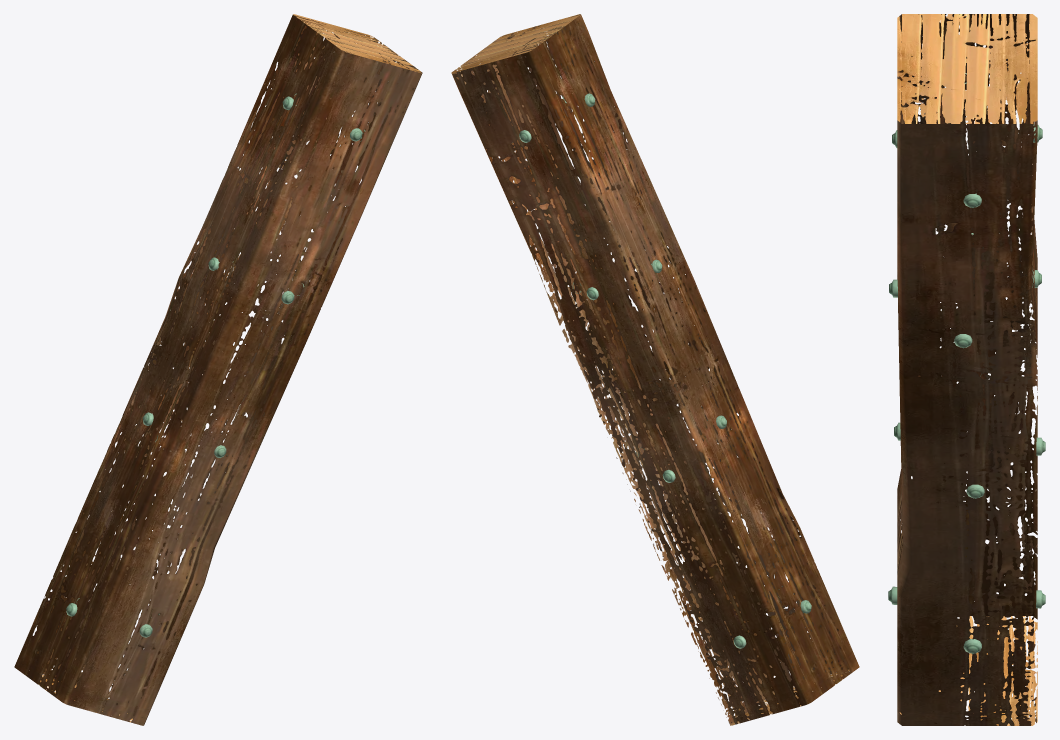
3 views of the same model, side by side, from view 1: azimuth 30°, elevation 25°; view 2: azimuth 150°, elevation 25°; view 3: azimuth 270°, elevation 25° (orthographic). The views are drawn at different scales.
Visible parts, largest first — view 1: SM_BB_T4_Beam_Thick_Large_Steep_LOD0; view 2: SM_BB_T4_Beam_Thick_Large_Steep_LOD0; view 3: SM_BB_T4_Beam_Thick_Large_Steep_LOD0.
Boxes of the visible parts, bbox=[...] form: SM_BB_T4_Beam_Thick_Large_Steep_LOD0: bbox=[14, 14, 422, 725]; SM_BB_T4_Beam_Thick_Large_Steep_LOD0: bbox=[451, 14, 859, 725]; SM_BB_T4_Beam_Thick_Large_Steep_LOD0: bbox=[888, 14, 1045, 725].
Bounding box in the file's own units: 1.93 × 3.22 × 0.5464.
2 materials, 2 textured.
